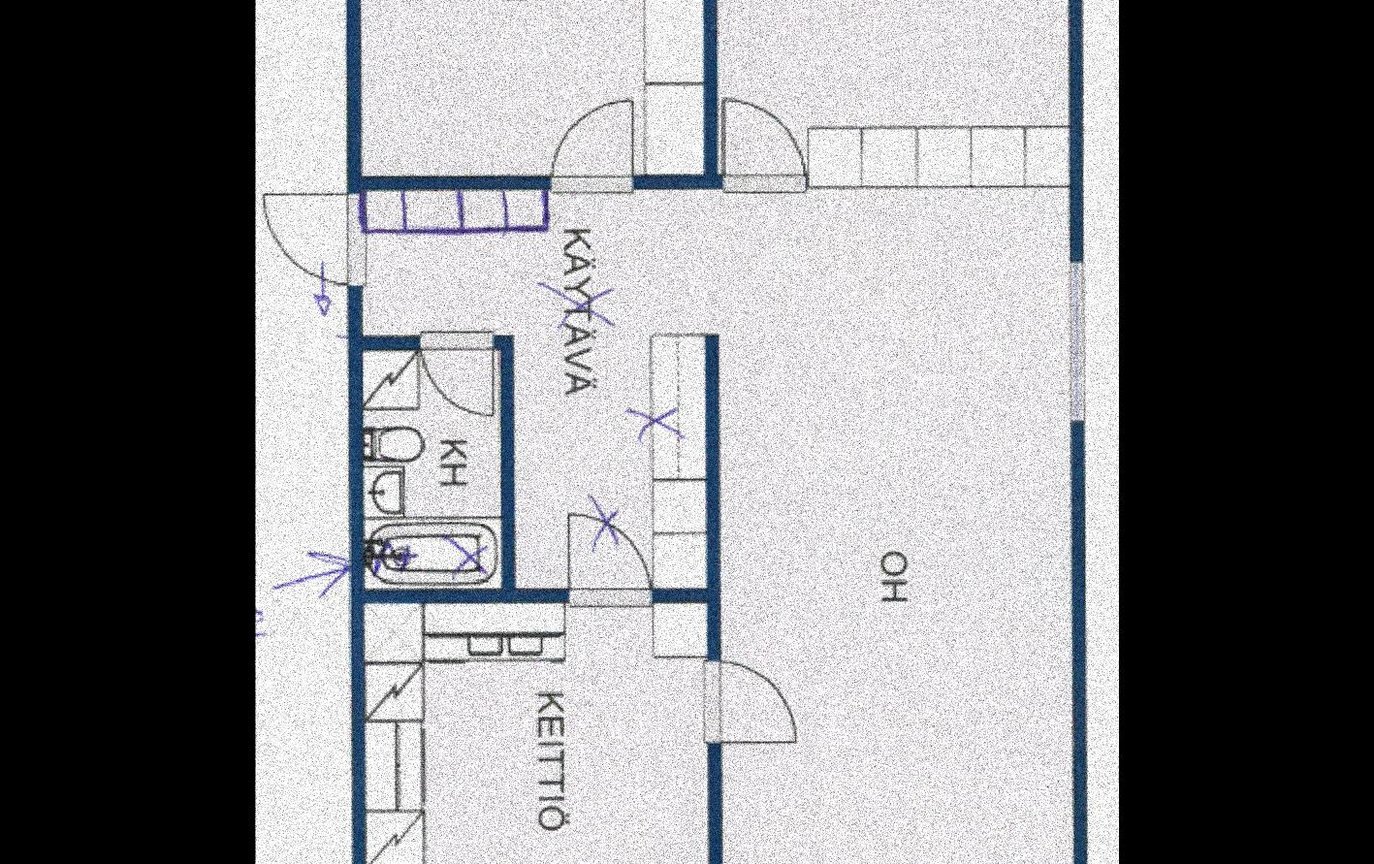door: (255, 176, 368, 299), (695, 657, 809, 754), (556, 511, 662, 611), (548, 98, 642, 200), (719, 92, 802, 197), (418, 322, 503, 418)
window: (1068, 262, 1086, 419)
zone: (364, 191, 1073, 864), (368, 594, 709, 864), (718, 0, 1069, 183), (363, 0, 708, 174)
